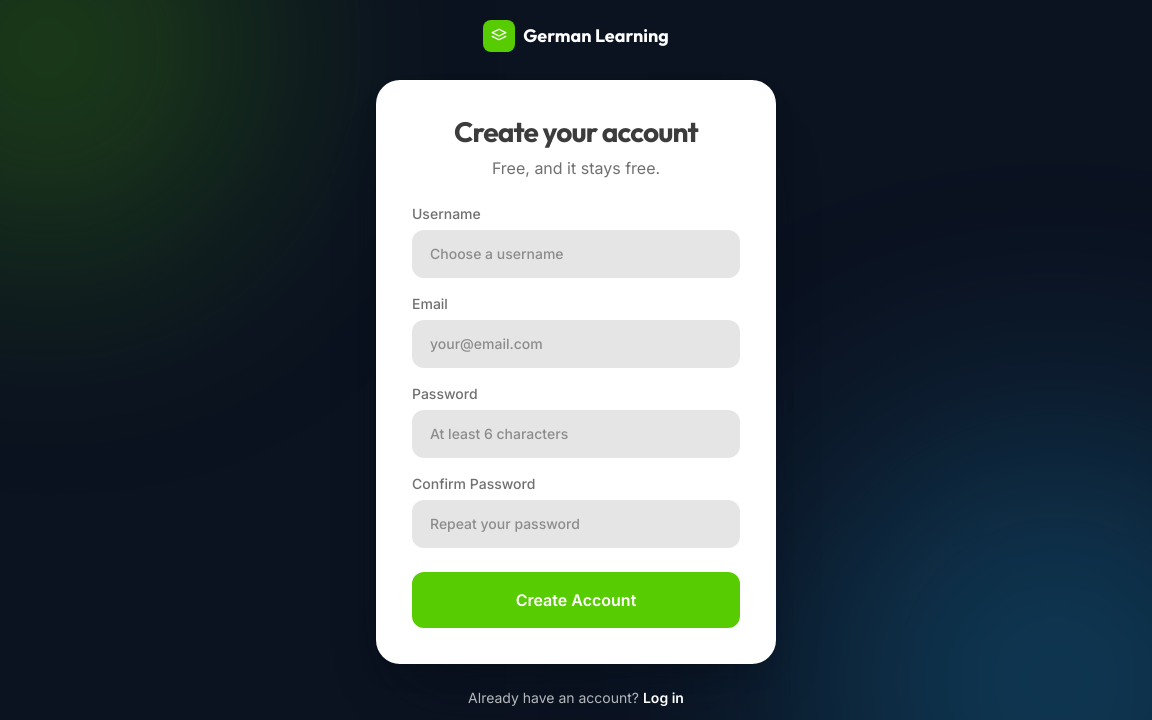
Test: RegisterPage › refuses an empty form
The width and height of the screenshot is (1152, 720).
Click the button "Create Account".
click(576, 600)  # box [412,572,740,628]
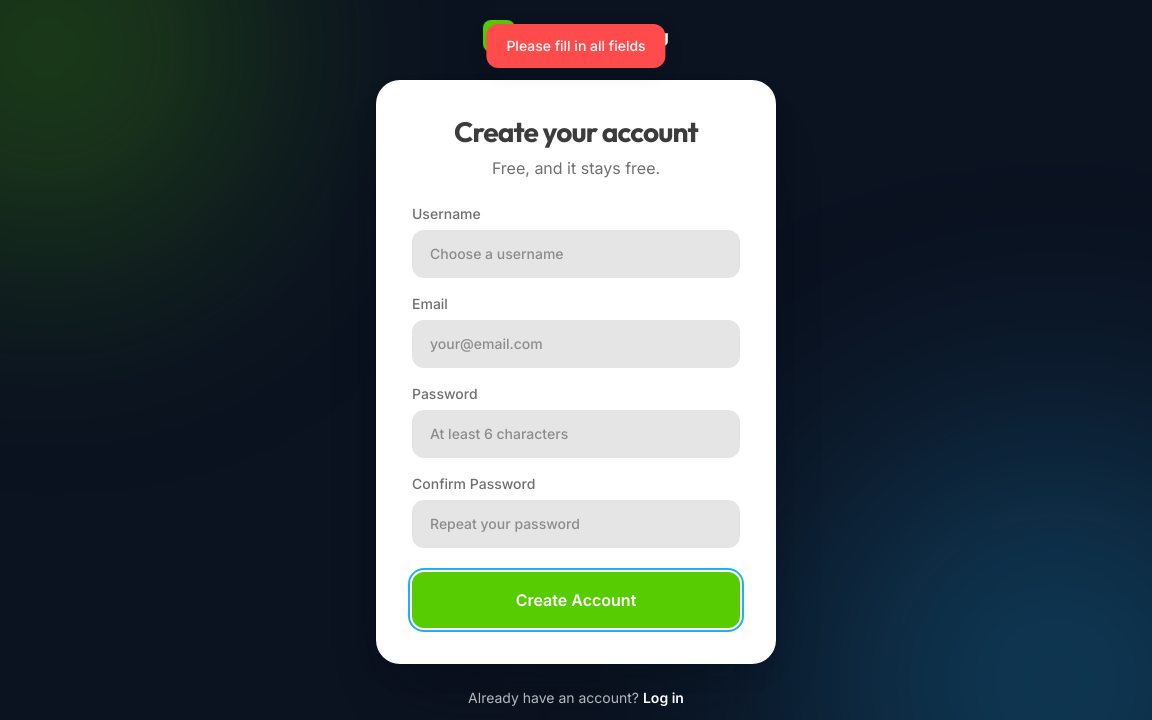
Expected: the message reads "Please fill in all fields", [506,37,646,54]
